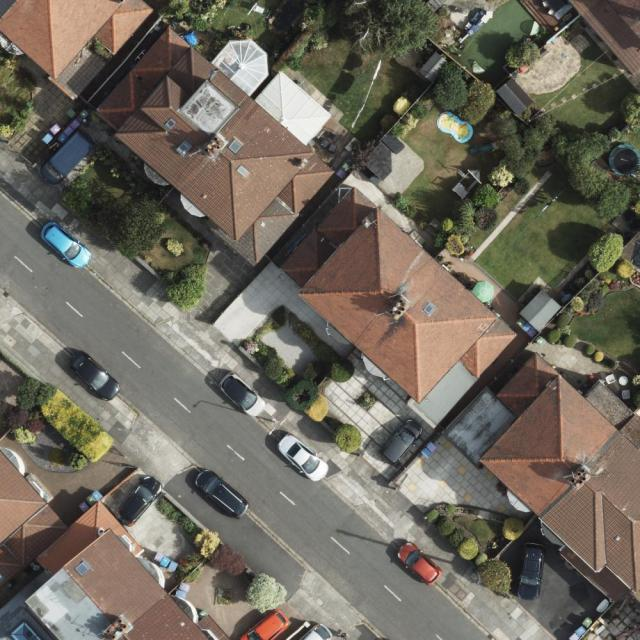roof: (91, 24, 337, 268), (279, 186, 522, 430), (444, 353, 640, 604), (0, 446, 234, 640), (0, 0, 156, 81), (569, 0, 640, 88)
skylight: (211, 39, 270, 99), (10, 620, 43, 640), (173, 138, 195, 158), (227, 135, 245, 154), (74, 561, 91, 577), (236, 162, 251, 178), (423, 300, 437, 317), (163, 116, 177, 130)
